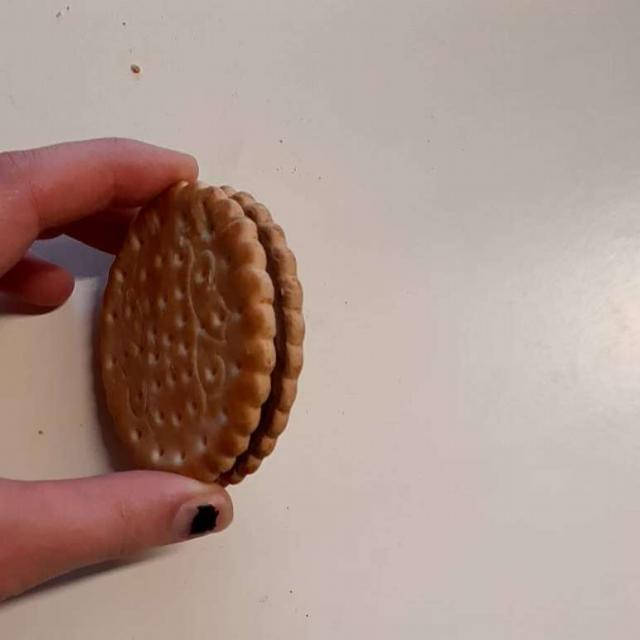cookies: (95, 189, 295, 479)
